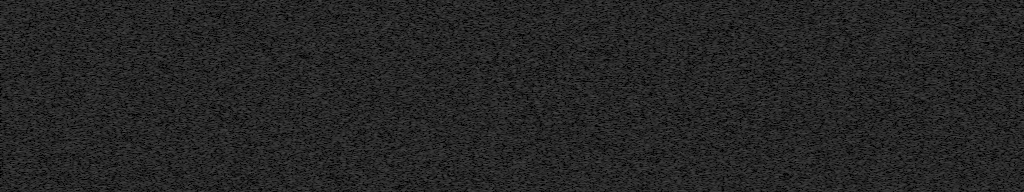wv_cw: (739, 0, 745, 192), (61, 0, 66, 192)
wv_wbfm: (87, 0, 102, 192)
